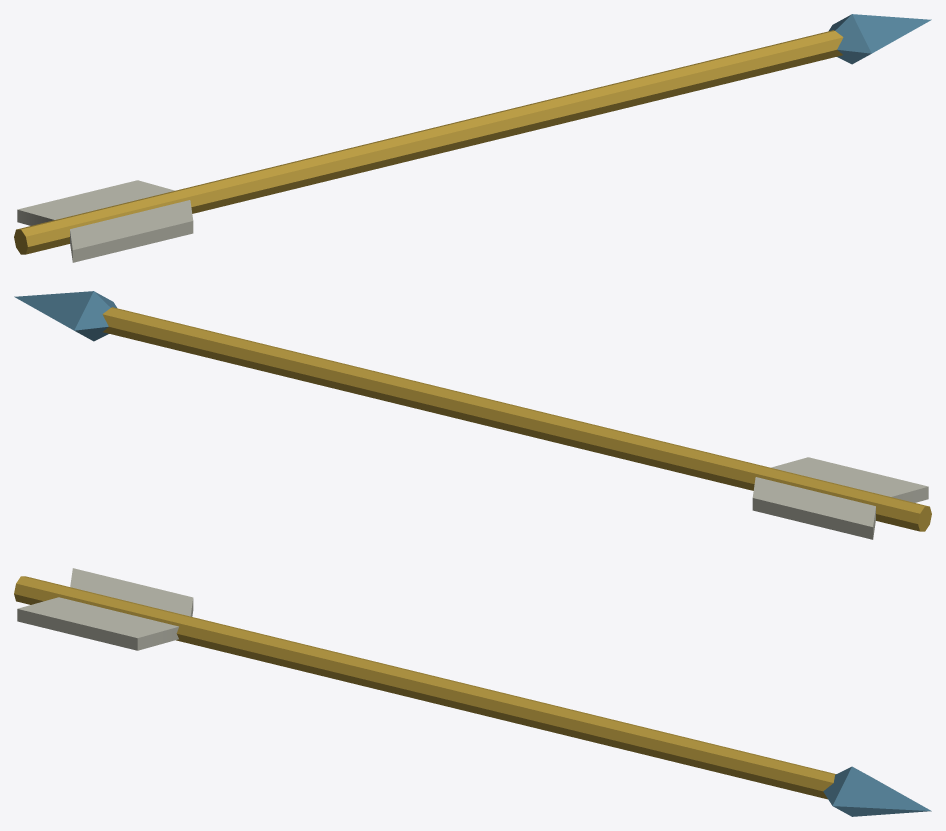
The model's file is arrow01.fbx.
3 views of the same model, one above another, from view 1: azimuth 30°, elevation 25°; view 2: azimuth 150°, elevation 25°; view 3: azimuth 330°, elevation 25° (orthographic).
Parts seen in each view (by area): view 1: body, feather, tip; view 2: body, feather, tip; view 3: body, feather, tip.
Part boxes in pixels (bbox=[...]): body: bbox=[14, 30, 843, 254]; feather: bbox=[17, 180, 193, 262]; tip: bbox=[829, 14, 931, 64]; body: bbox=[102, 307, 931, 531]; feather: bbox=[752, 457, 928, 539]; tip: bbox=[14, 291, 116, 341]; body: bbox=[14, 576, 836, 799]; feather: bbox=[17, 568, 193, 650]; tip: bbox=[823, 766, 931, 816].
Size of the model in its own units: 37.81 by 2 by 4.
